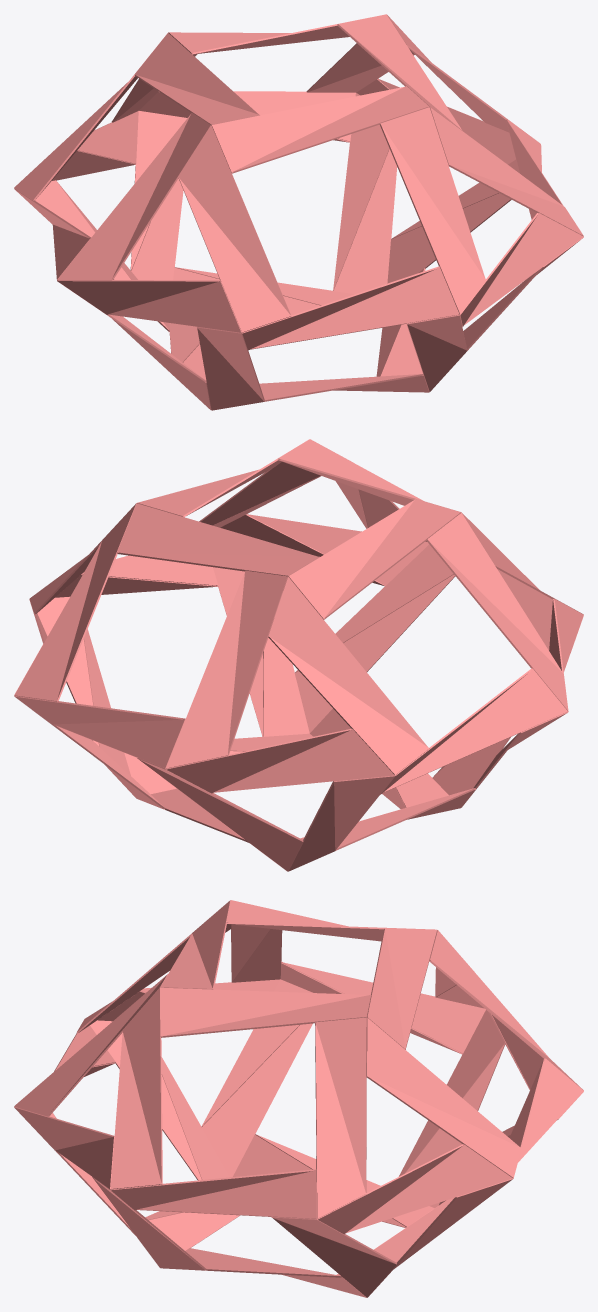
The model's file is SquareOrthobicupola.glb.
3 views of the same model, one above another, from view 1: azimuth 30°, elevation 25°; view 2: azimuth 150°, elevation 25°; view 3: azimuth 270°, elevation 25° (orthographic). The views are drawn at different scales.
Parts seen in each view (by area): view 1: root; view 2: root; view 3: root.
Boxes of the visible parts, x1,y1,x2,y2 form: root: (14,14,583,410); root: (14,439,583,871); root: (14,900,583,1297).
Bounding box in the file's own units: 10.09 × 5.49 × 10.09.
